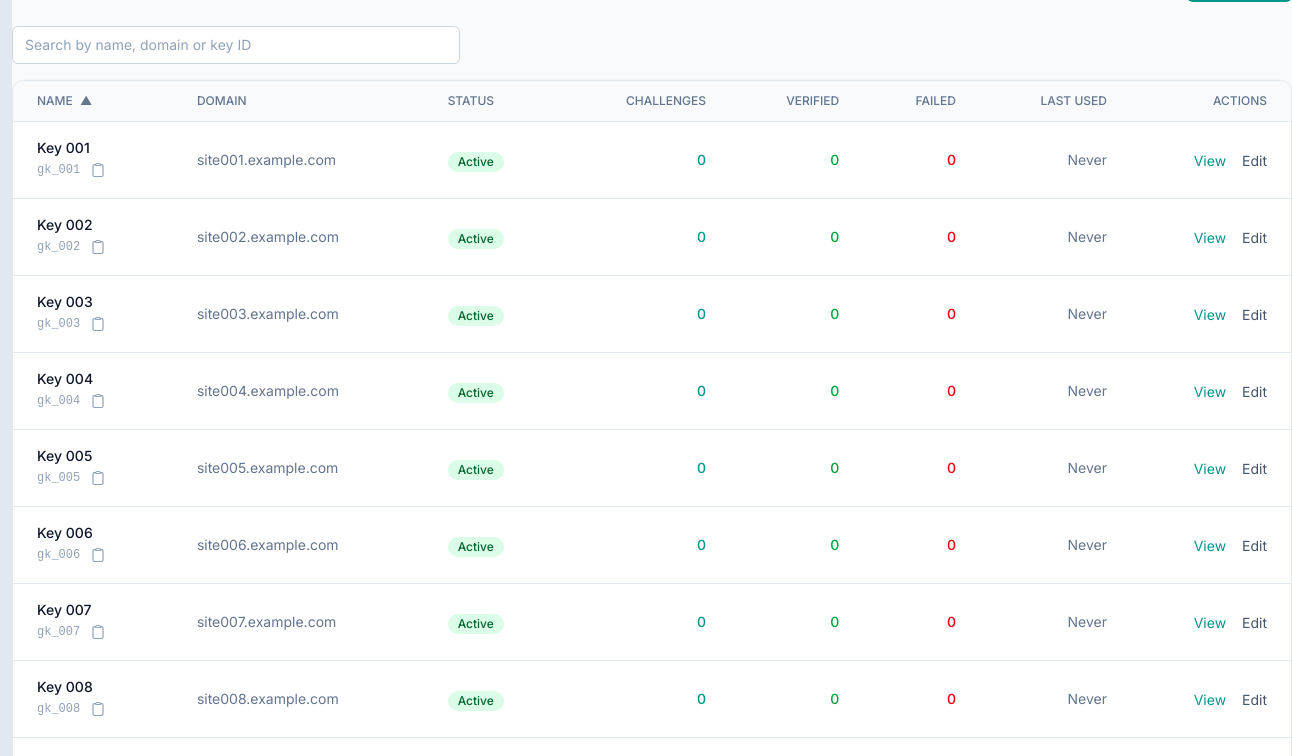
Test: ApiKeysView › sorts across the whole set, not just the current page
Click the column heading "Name ▲". click: [93, 101]
box: [13,81,173,122]
(page scrolled)
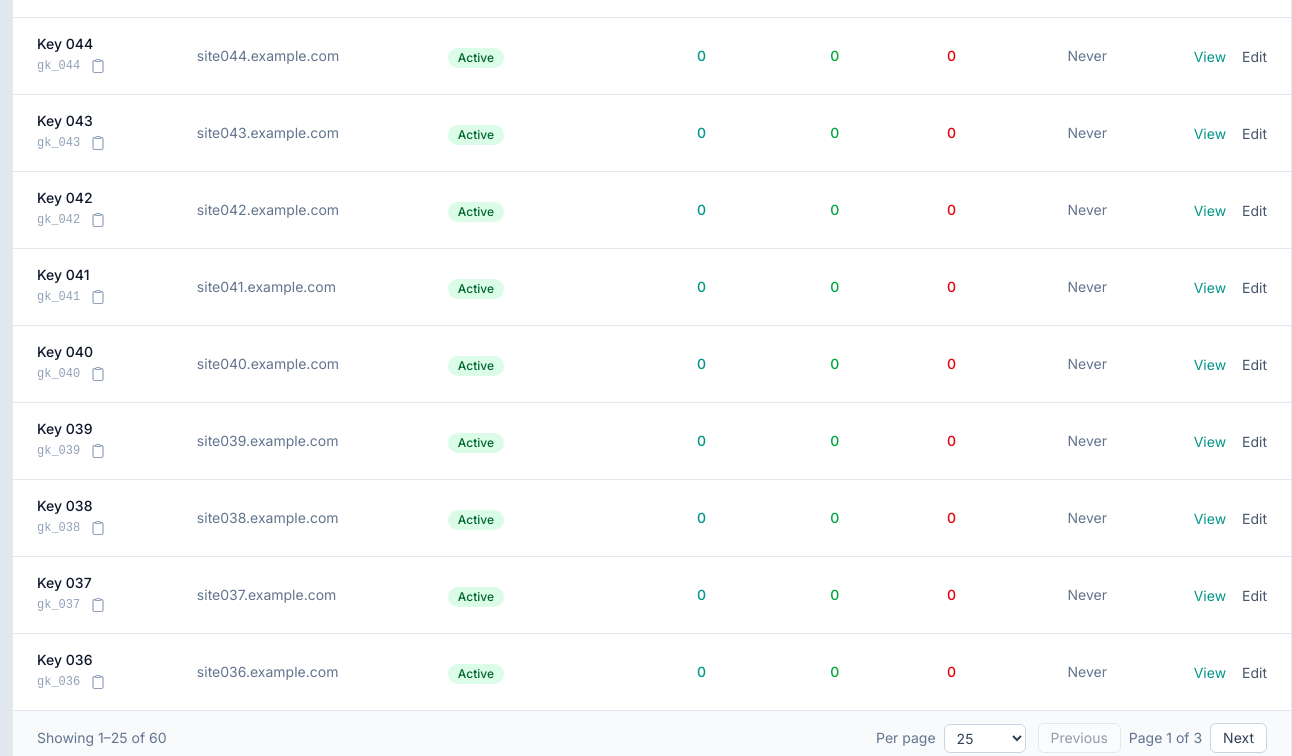
Click the button with aria-label "Next page". click: [1239, 738]
box: [1210,723,1267,753]
(page scrolled)
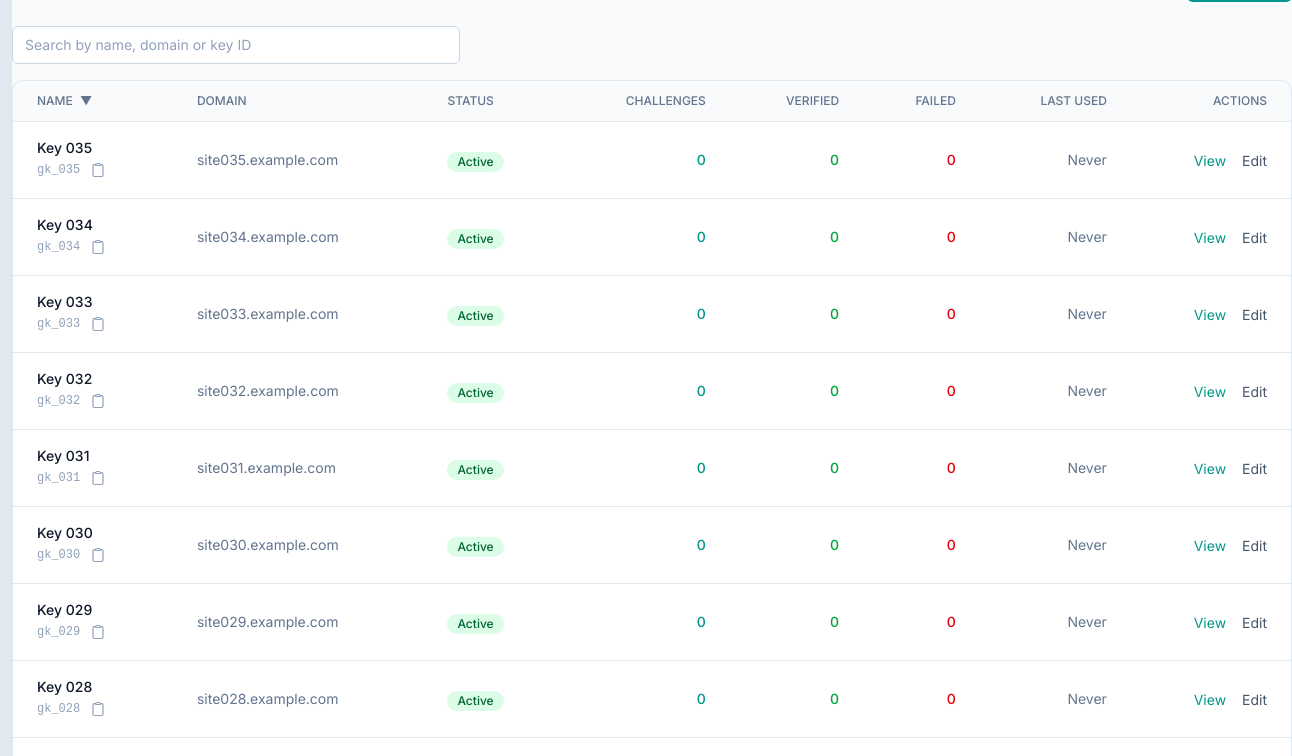
Now the row that starts with "Key 035" is shown, box [37,139,92,156]
